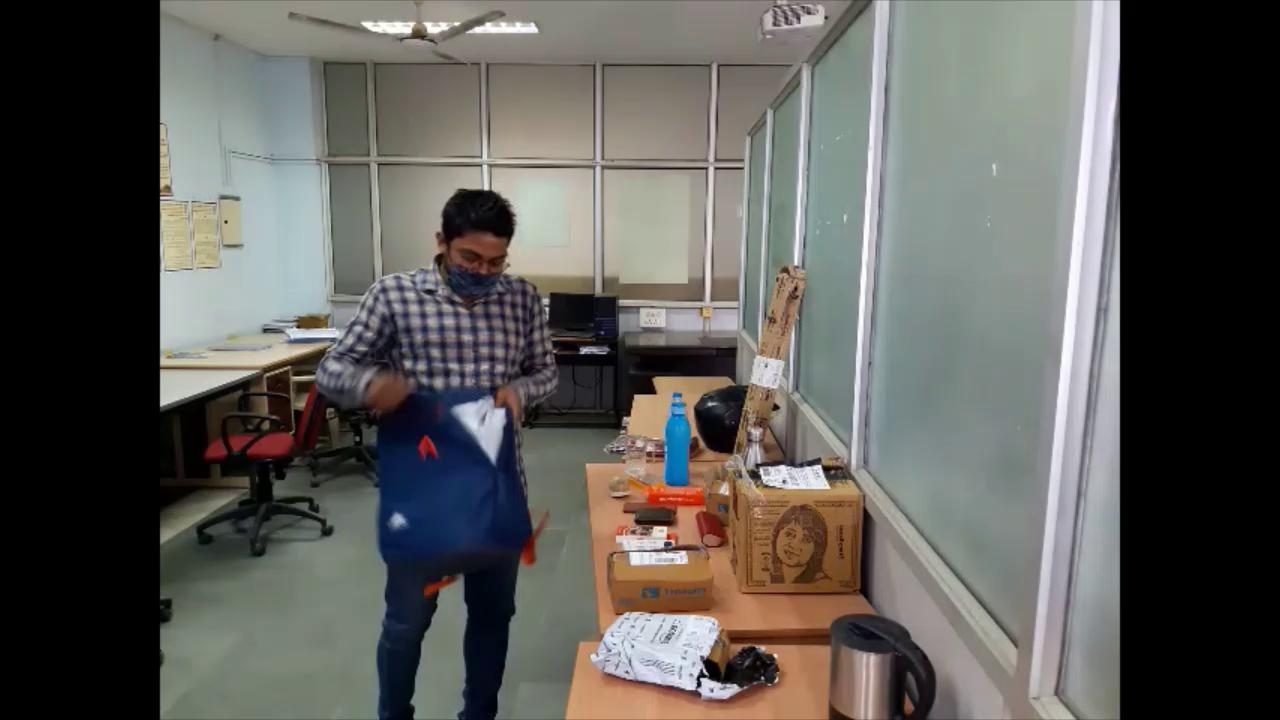shoplifting: (306, 187, 572, 720)
